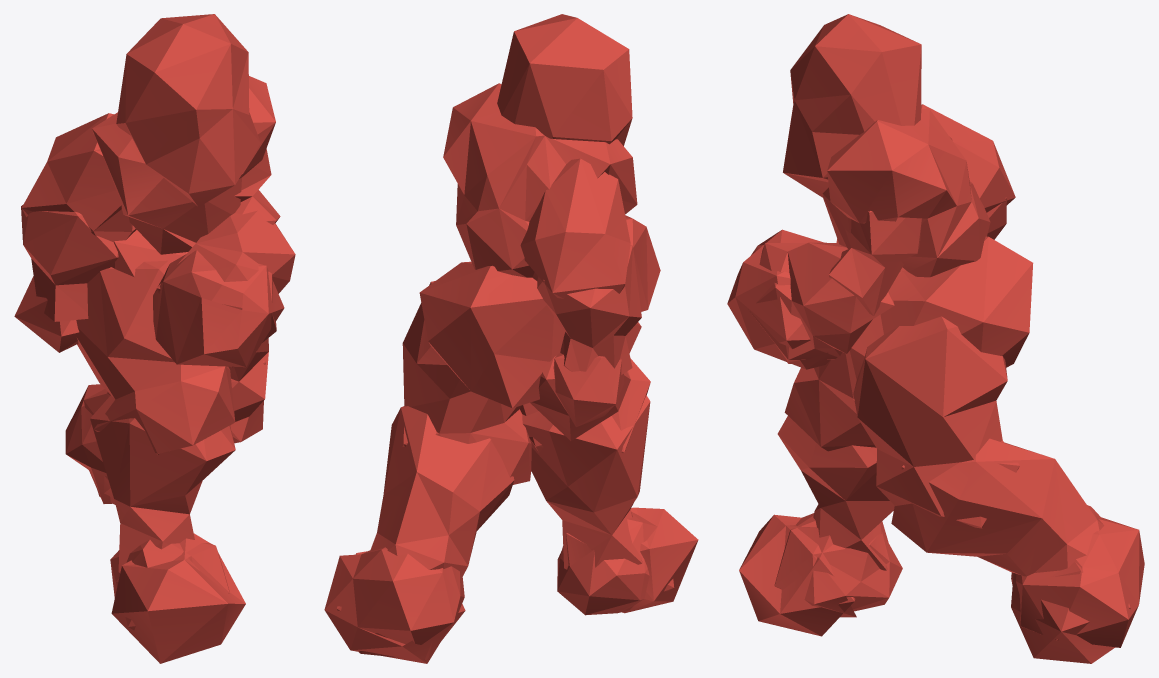
File: dance_frames0371.obj
3 views of the same model, side by side, from view 1: azimuth 30°, elevation 25°; view 2: azimuth 150°, elevation 25°; view 3: azimuth 270°, elevation 25° (orthographic). The views are drawn at different scales.
Parts seen in each view (by area): view 1: Beta_Surface; view 2: Beta_Surface; view 3: Beta_Surface.
Part boxes in pixels (x1=…): Beta_Surface: x1=14, y1=14, x2=295, y2=663; Beta_Surface: x1=324, y1=14, x2=698, y2=663; Beta_Surface: x1=727, y1=14, x2=1144, y2=663.
Bounding box in the file's own units: 0.8196 × 1.96 × 1.19.
